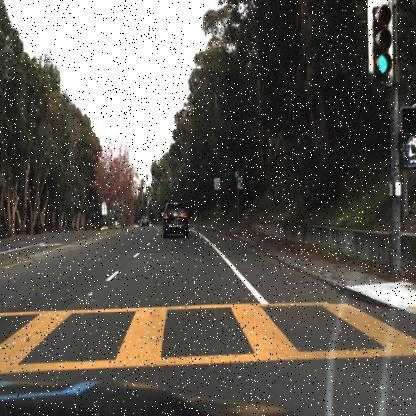car: (159, 200, 190, 242), (138, 212, 152, 232), (138, 209, 150, 229)
